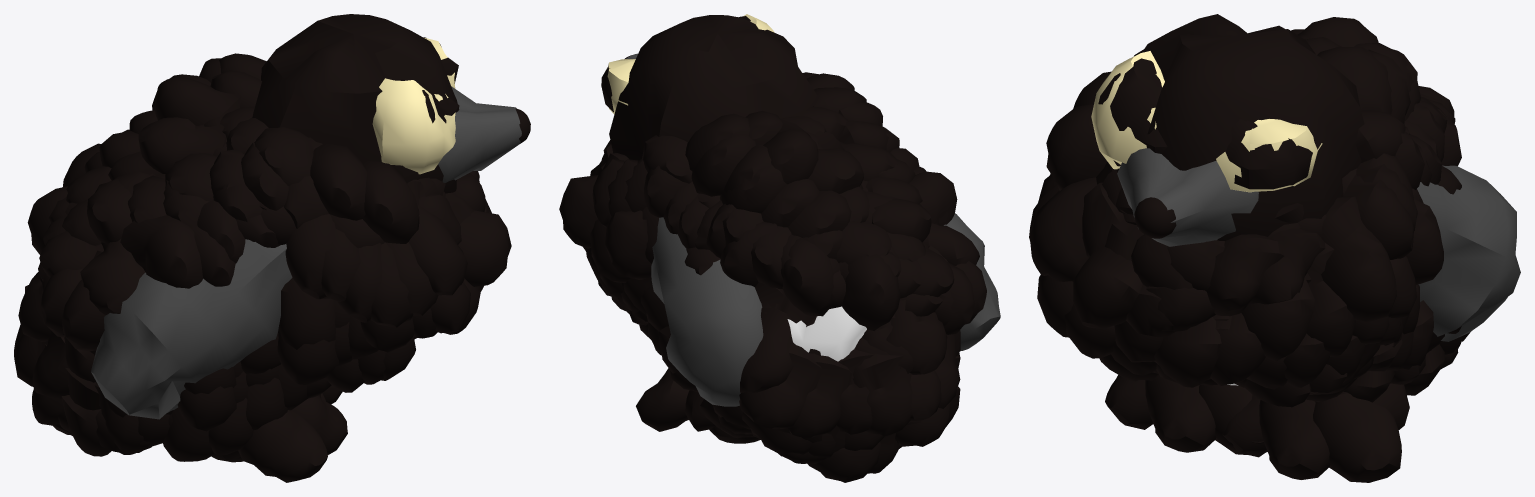
The model's file is baby pegion.fbx.
3 views of the same model, side by side, from view 1: azimuth 30°, elevation 25°; view 2: azimuth 150°, elevation 25°; view 3: azimuth 270°, elevation 25° (orthographic). The views are drawn at different scales.
Visible parts, largest first — view 1: Capsule_7_7, Sphere, Sphere_1, Cone, Capsule_1_5, Capsule_18, Capsule_22, Capsule_10, Capsule_34_2, Capsule_45, Capsule_36_2, Capsule_21 (+63 smaller); view 2: Sphere, Capsule_1_8, Capsule_12_3, Capsule_15_3, Capsule, Capsule_15, Capsule_17_3, Capsule_14_3, Capsule_4_6, Capsule_10_2, Metaball, Capsule_23_2 (+62 smaller); view 3: Sphere, Capsule_1_8, Cone, Capsule_4_6, Capsule_27_2, Capsule_34_2, Capsule_3_6, Capsule_36_2, Capsule_29_2, Capsule_7_5, Sphere_4, Capsule_22 (+47 smaller).
Part boxes in pixels (x1,y1,x2,y2): Capsule_7_7: (91, 239, 292, 419); Sphere: (252, 14, 459, 193); Sphere_1: (372, 78, 455, 174); Cone: (438, 86, 521, 182); Capsule_1_5: (222, 410, 327, 482); Capsule_18: (120, 215, 203, 288); Capsule_22: (362, 161, 419, 243); Capsule_10: (310, 143, 367, 220); Capsule_34_2: (407, 179, 467, 295); Capsule_45: (138, 117, 226, 173); Capsule_36_2: (458, 210, 511, 286); Capsule_21: (80, 238, 145, 315); Sphere: (609, 15, 817, 160); Capsule_1_8: (651, 217, 763, 406); Capsule_12_3: (852, 353, 912, 436); Capsule_15_3: (739, 342, 822, 428); Capsule: (842, 254, 900, 330); Capsule_15: (783, 238, 834, 316); Capsule_17_3: (740, 307, 793, 393); Capsule_14_3: (787, 353, 852, 437); Capsule_4_6: (636, 368, 715, 431); Capsule_10_2: (886, 300, 947, 374); Metaball: (787, 306, 866, 361); Capsule_23_2: (605, 210, 651, 279); Sphere: (1116, 14, 1364, 240); Capsule_1_8: (1417, 165, 1520, 341); Cone: (1117, 148, 1258, 246); Capsule_4_6: (1313, 383, 1409, 482); Capsule_27_2: (1321, 196, 1396, 322); Capsule_34_2: (1029, 162, 1114, 281); Capsule_3_6: (1259, 399, 1330, 479); Capsule_36_2: (1073, 246, 1142, 328); Capsule_29_2: (1206, 234, 1284, 316); Capsule_7_5: (1145, 375, 1216, 452); Sphere_4: (1225, 119, 1312, 189); Capsule_22: (1046, 104, 1107, 190).
Bounding box in the file's own units: 176 × 152 × 151.
